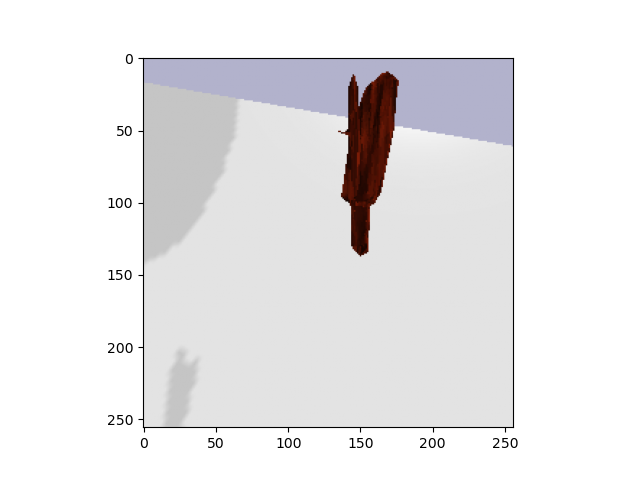v249b387_107: (328, 72, 412, 270)
